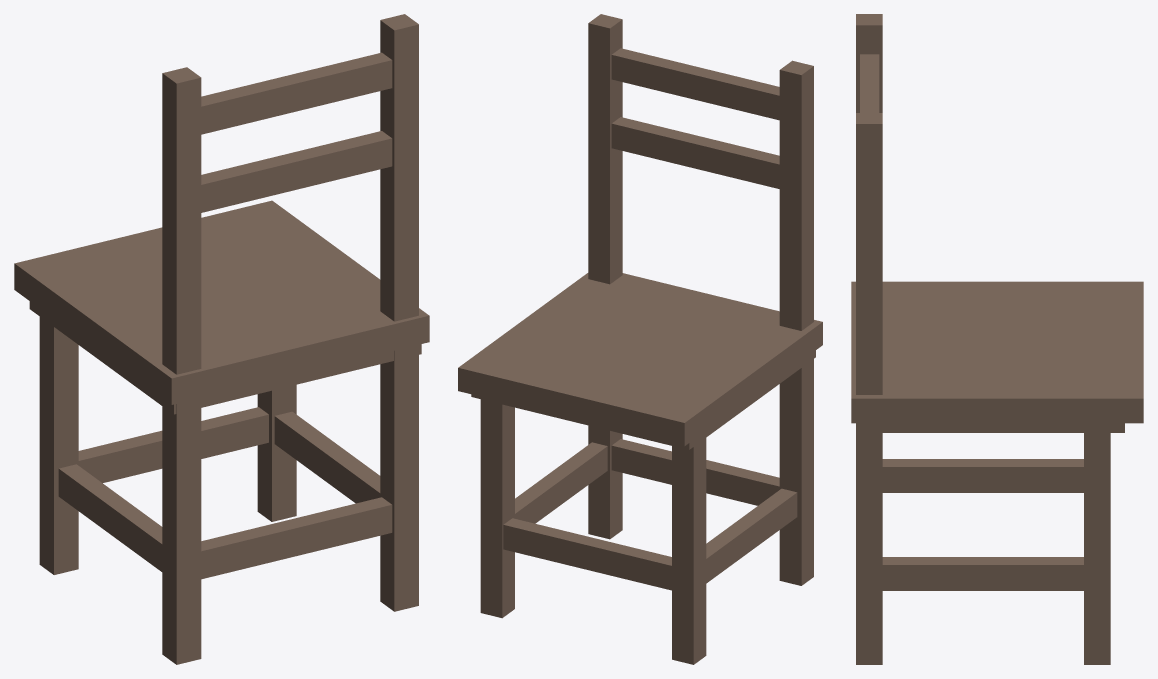
Rendered from chair.fbx.
3 renders of one model, left to right at view 1: azimuth 30°, elevation 25°; view 2: azimuth 150°, elevation 25°; view 3: azimuth 270°, elevation 25°, orthographic. The views are drawn at different scales.
Visible parts, largest first — view 1: chair; view 2: chair; view 3: chair.
Part boxes in pixels (<box>): chair: <box>14,14,429,664</box>; chair: <box>458,14,822,664</box>; chair: <box>851,14,1143,664</box>.
Bounding box in the file's own units: 0.4176 × 0.9 × 0.4412.
